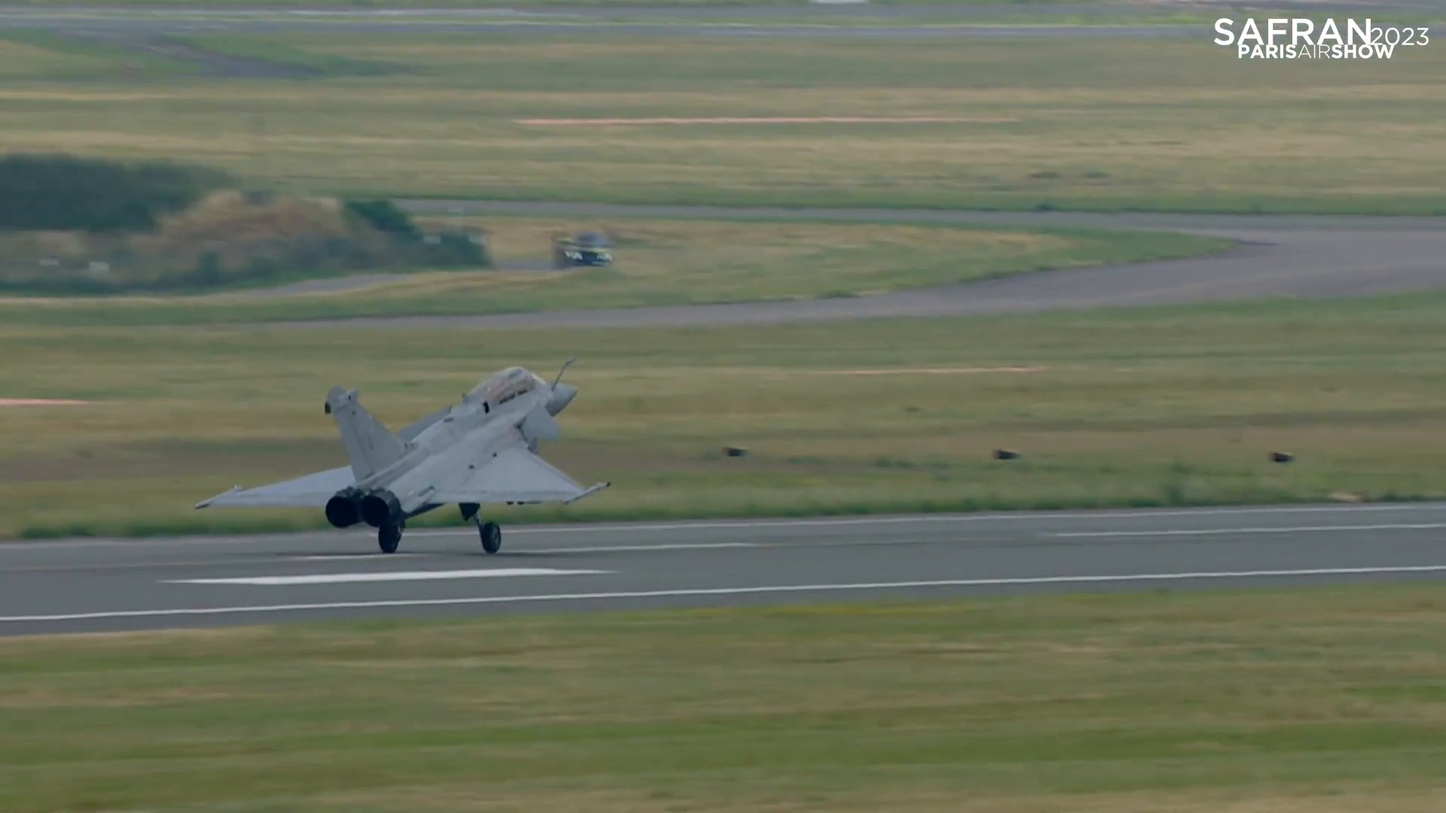Rafale: (188, 346, 616, 556)
